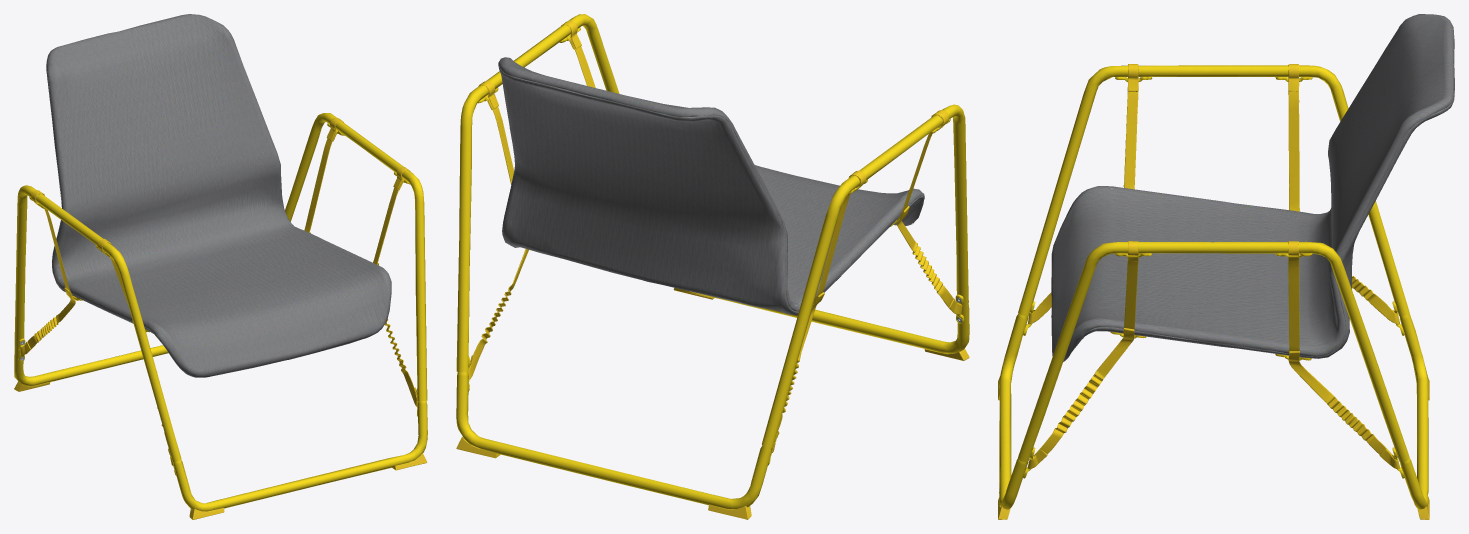
The model's file is brannboll_fotel_gamingowy_60586338.glb.
3 views of the same model, side by side, from view 1: azimuth 30°, elevation 25°; view 2: azimuth 150°, elevation 25°; view 3: azimuth 270°, elevation 25° (orthographic). The views are drawn at different scales.
Parts seen in each view (by area): view 1: brannboll_fotel_gamingowy_60586338; view 2: brannboll_fotel_gamingowy_60586338; view 3: brannboll_fotel_gamingowy_60586338.
Part boxes in pixels (left/top/right/bottom): brannboll_fotel_gamingowy_60586338: left=14, top=14, right=427, bottom=519; brannboll_fotel_gamingowy_60586338: left=456, top=14, right=969, bottom=519; brannboll_fotel_gamingowy_60586338: left=998, top=14, right=1454, bottom=519.
Bounding box in the file's own units: 0.8279 × 0.8308 × 0.8759.
1 material, 1 textured.
